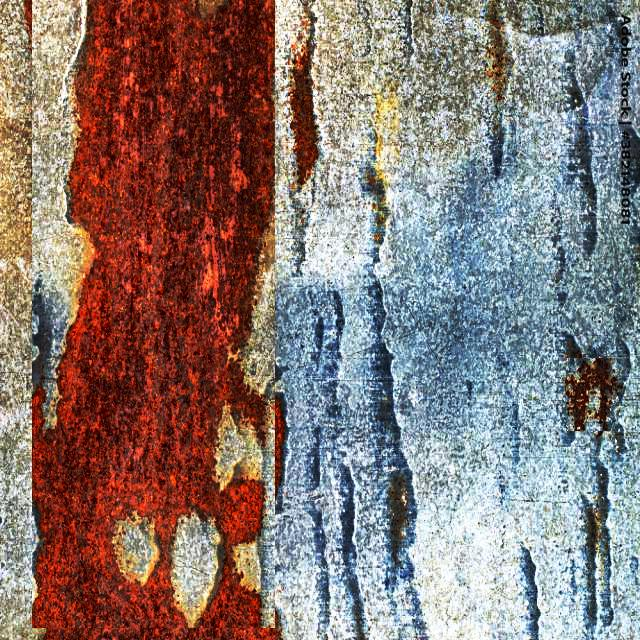Corrosion: (33, 0, 278, 640), (289, 14, 318, 184), (565, 358, 623, 431), (275, 398, 285, 495)
